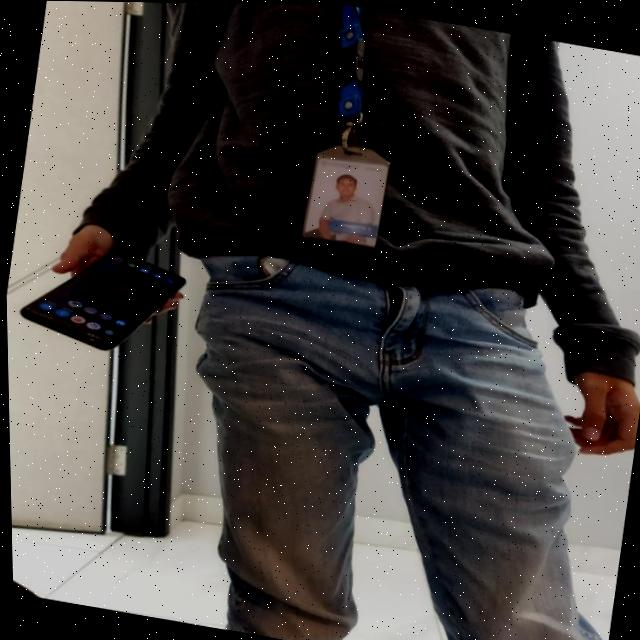id_card: (266, 3, 428, 255)
